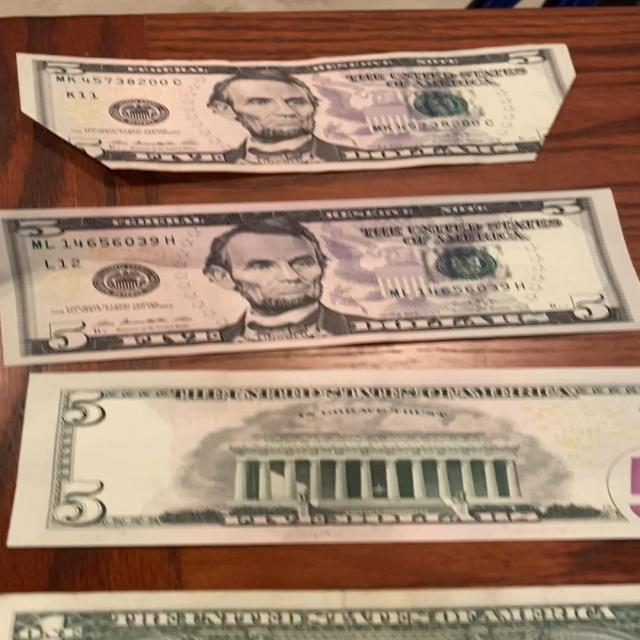5-Back: (3, 366, 640, 548)
5-Front: (0, 185, 640, 373), (12, 44, 580, 172)
